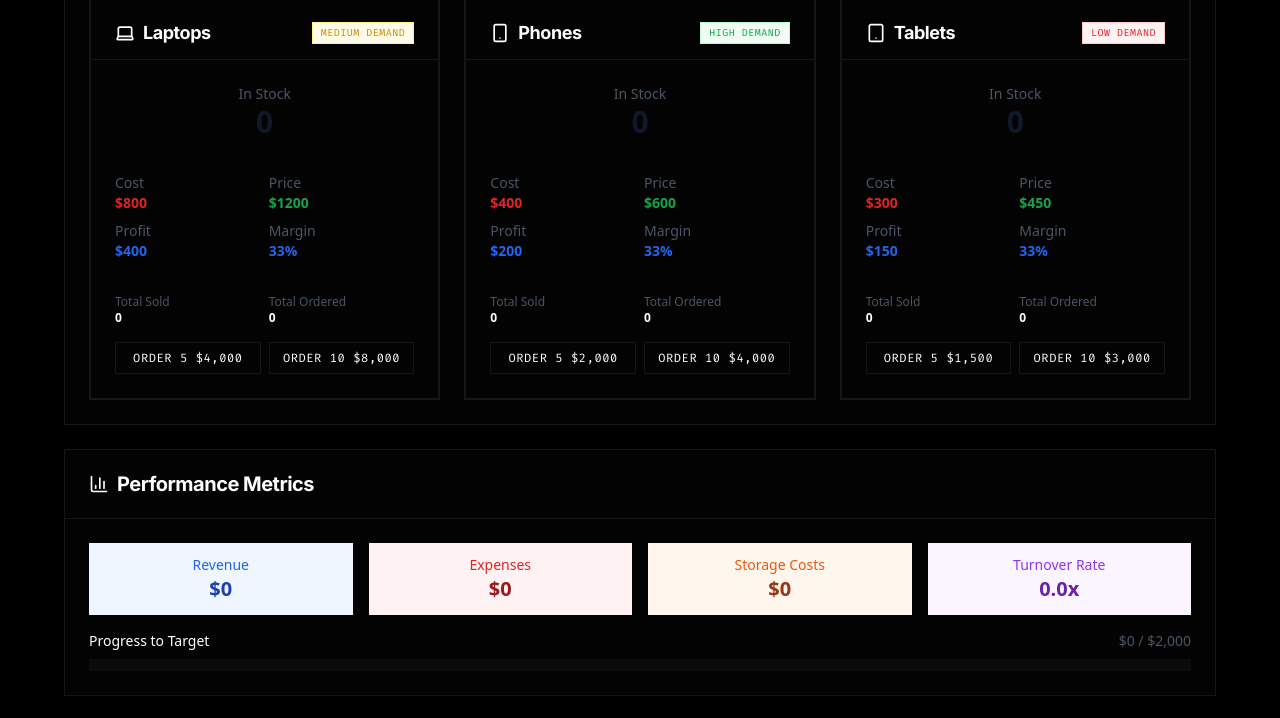
InventoryManager › resets game to initial state from activity props
The image size is (1280, 718).
(page scrolled)
# Order some stock first
Step 1. Click the button "Order 5 $4,000" → {"x": 188, "y": 358}, box [115, 342, 261, 374]
(page scrolled)
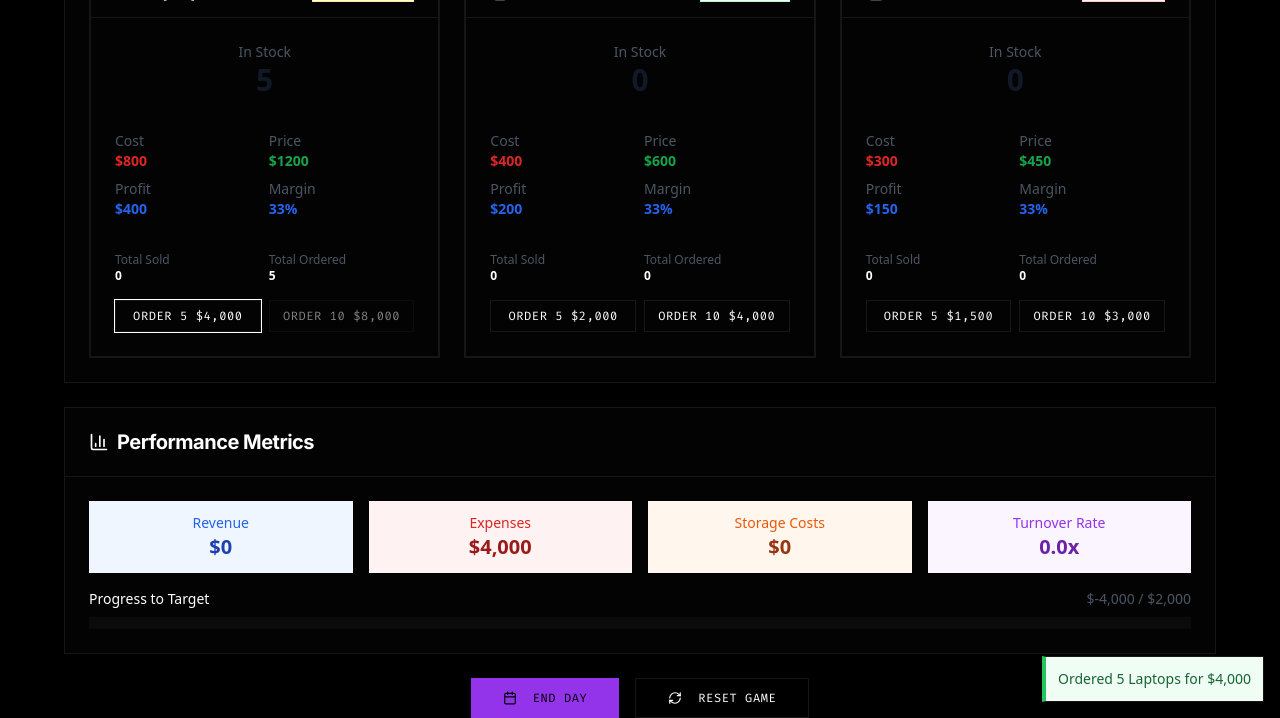
# Reset the game
Step 2. Click the button "Reset Game" → {"x": 722, "y": 698}, box [635, 678, 809, 717]
(page scrolled)
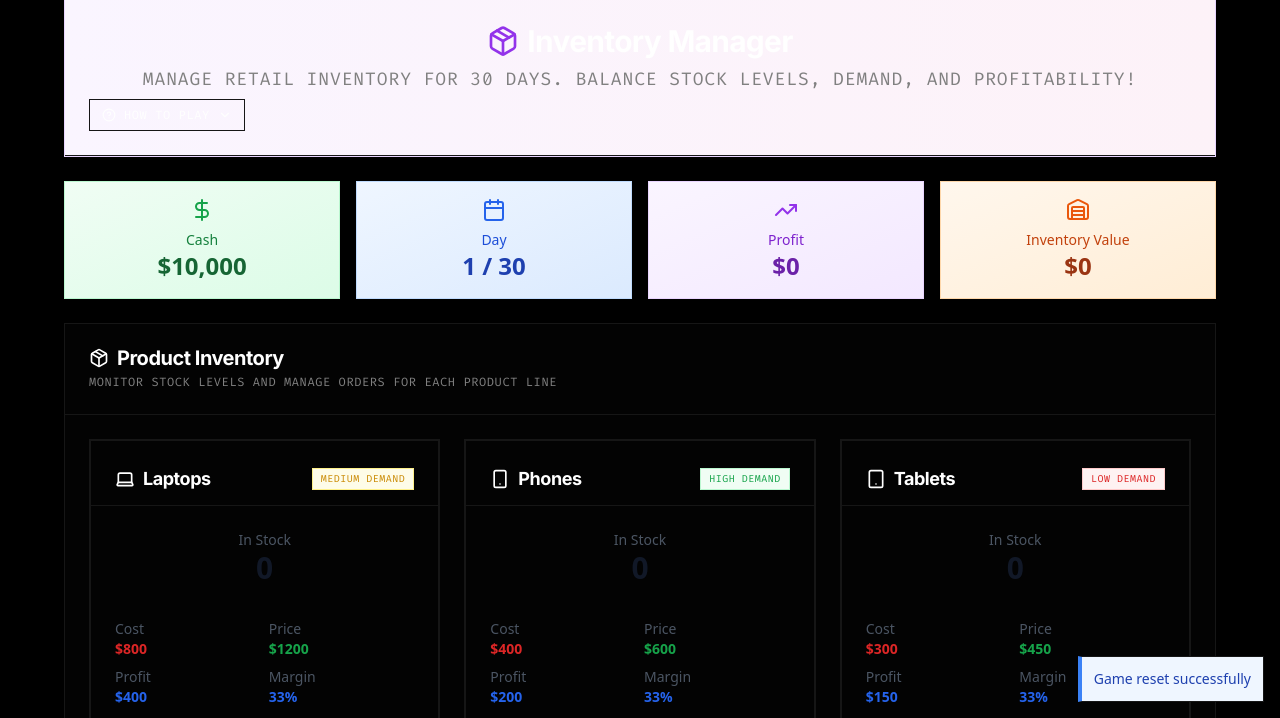
Expected: the text "$10,000" is shown, [157, 249, 247, 282]
